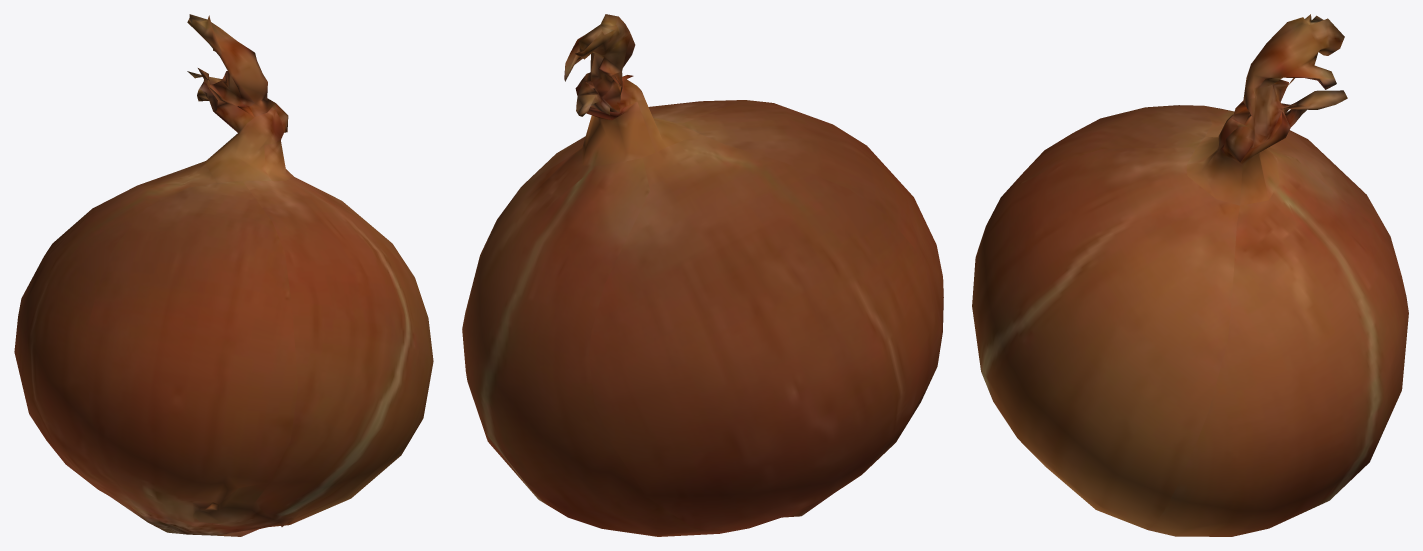
Rendered from yellow_onion.glb.
3 views of the same model, side by side, from view 1: azimuth 30°, elevation 25°; view 2: azimuth 150°, elevation 25°; view 3: azimuth 270°, elevation 25° (orthographic). The views are drawn at different scales.
Parts seen in each view (by area): view 1: yellow_onion; view 2: yellow_onion; view 3: yellow_onion.
Part boxes in pixels (x1,y1,x2,y2): yellow_onion: (14,14,433,536); yellow_onion: (462,14,943,536); yellow_onion: (972,14,1408,536).
Size of the model in its own units: 0.0724 by 0.0864 by 0.0685.
Materials: 1 (1 with a texture image).
